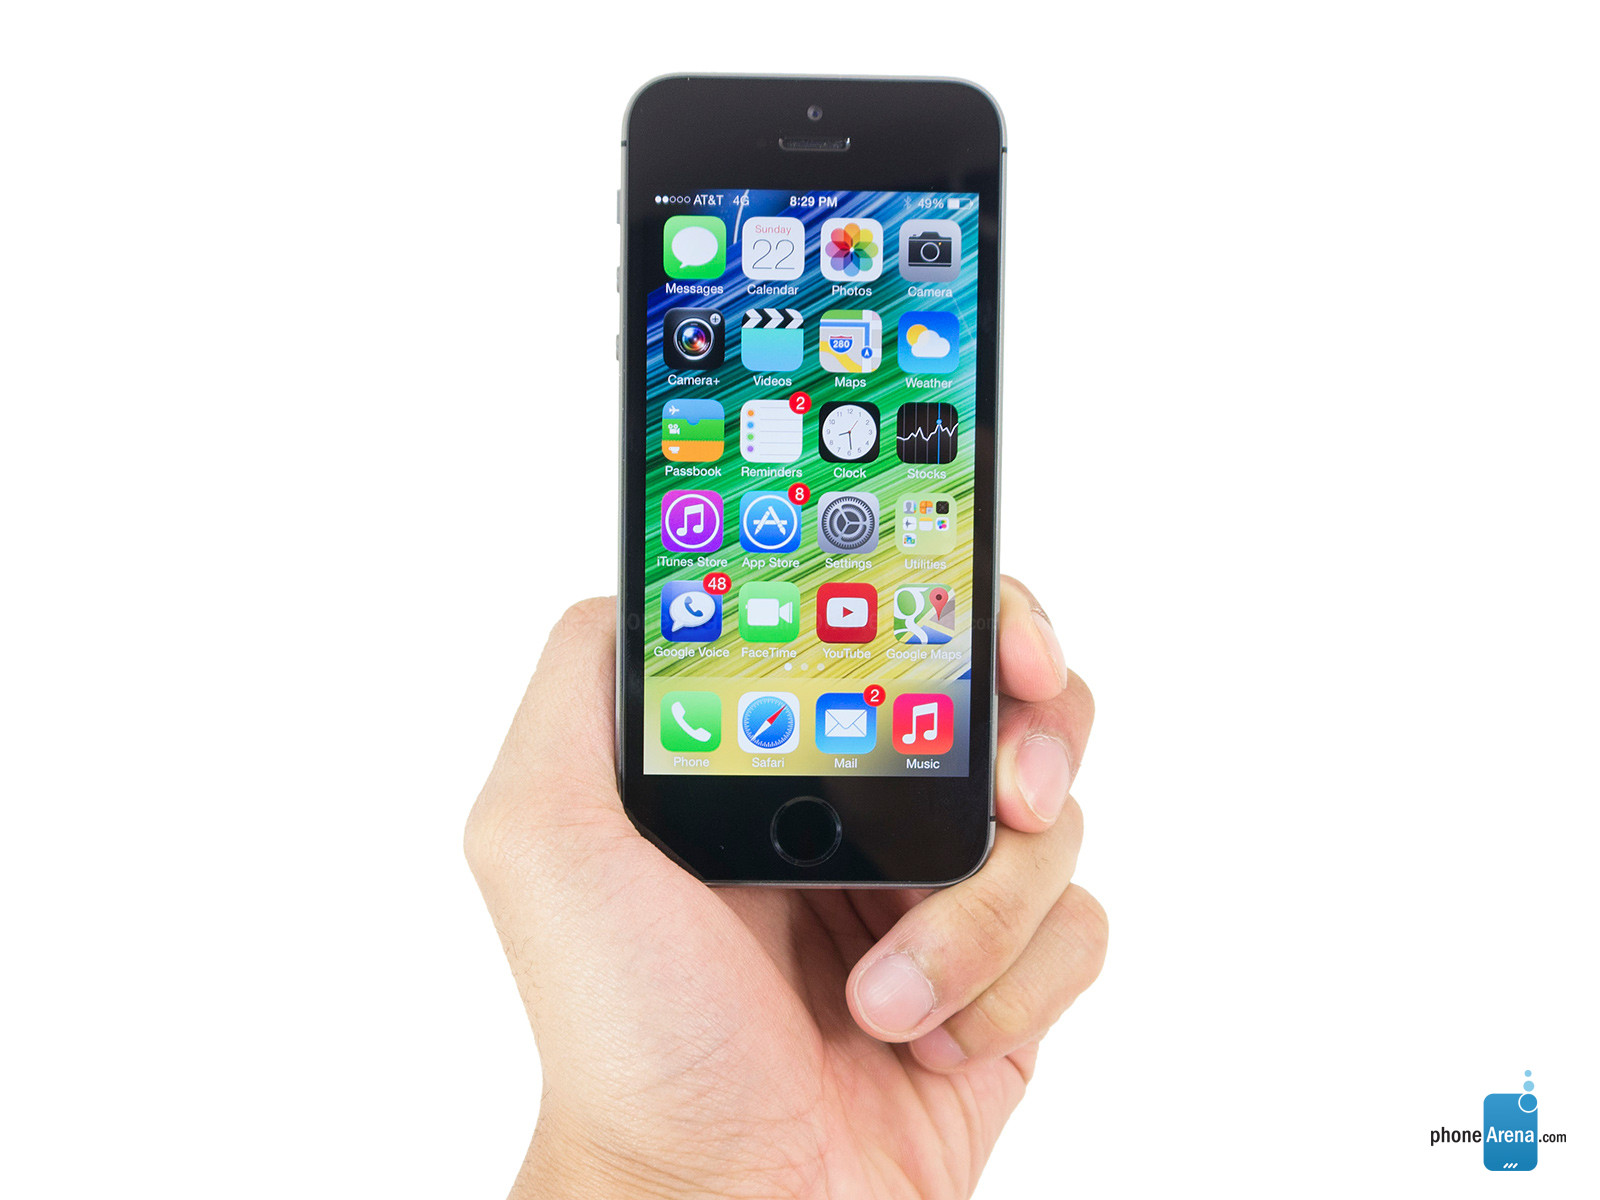smartphone: (614, 73, 1008, 887)
